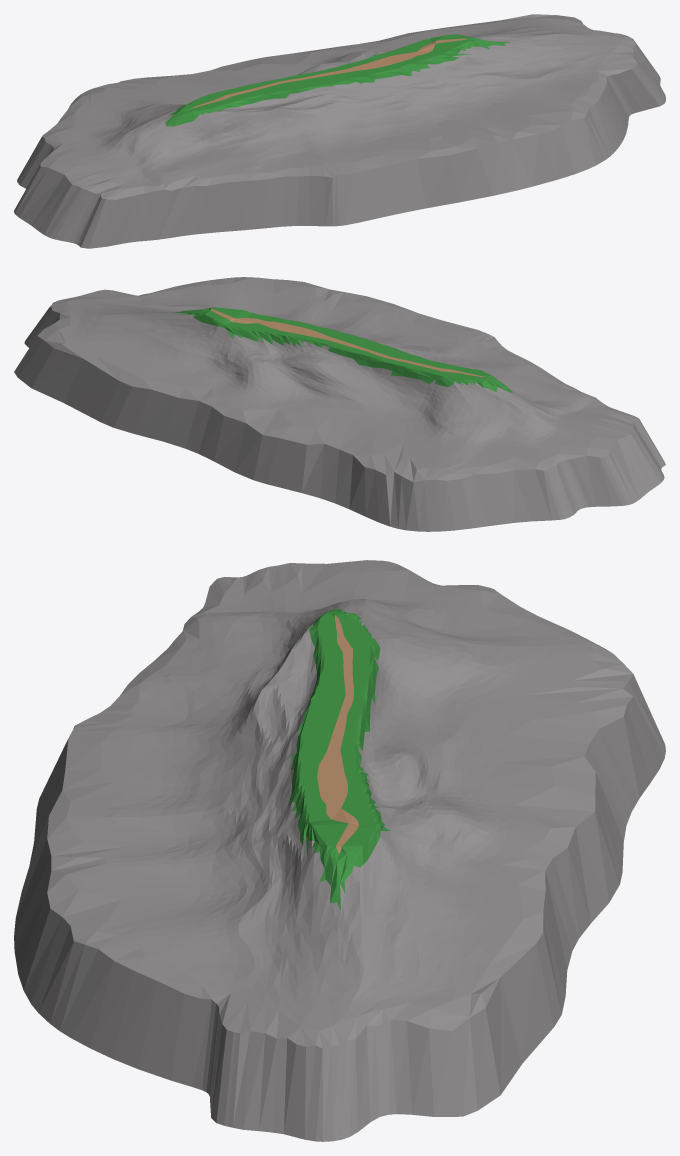
File: _landscape.fbx
3 views of the same model, one above another, from view 1: azimuth 30°, elevation 25°; view 2: azimuth 150°, elevation 25°; view 3: azimuth 270°, elevation 25° (orthographic). The views are drawn at different scales.
Parts seen in each view (by area): view 1: dirt, stone, Landscape_3, Landscape_4, Landscape_2; view 2: dirt, stone, Landscape_3, Landscape_4, Landscape_2; view 3: dirt, stone, Landscape_3, Landscape_4, Landscape_2.
Part boxes in pixels (box(x1,y1,x2,y2)): dirt: box(55, 17, 620, 189); stone: box(14, 14, 665, 248); Landscape_3: box(185, 35, 476, 112); Landscape_4: box(165, 34, 509, 126); Landscape_2: box(191, 38, 466, 108); dirt: box(58, 279, 618, 473); stone: box(14, 277, 665, 531); Landscape_3: box(200, 307, 495, 379); Landscape_4: box(171, 307, 512, 392); Landscape_2: box(207, 309, 485, 377); dirt: box(53, 571, 604, 1030); stone: box(14, 560, 665, 1141); Landscape_3: box(299, 611, 377, 861); Landscape_4: box(288, 609, 390, 910); Landscape_2: box(317, 615, 358, 854).
Size of the model in its own units: 4408 by 556 by 2284.
